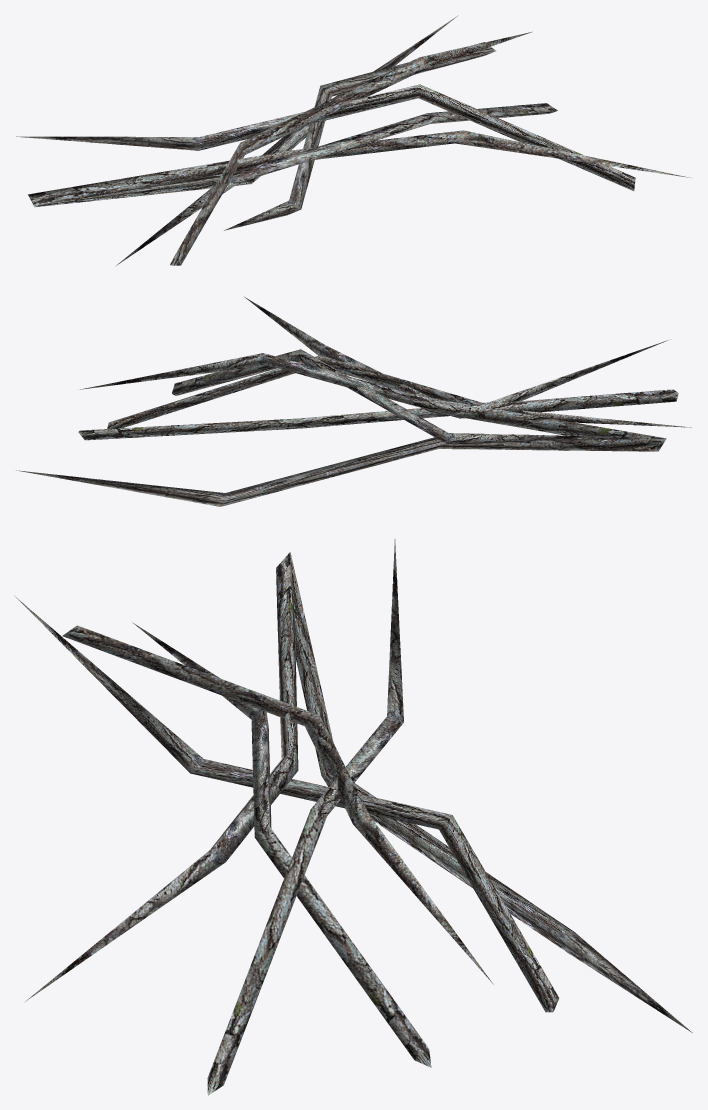
File: BranchesItem_01_v01.obj
The picture shows the model from 3 angles, top to bottom: view 1: azimuth 30°, elevation 25°; view 2: azimuth 150°, elevation 25°; view 3: azimuth 270°, elevation 25°; orthographic projection. The views are drawn at different scales.
Visible parts, largest first — view 1: polySurface13; view 2: polySurface13; view 3: polySurface13.
Boxes of the visible parts, box(x1,y1,x2,y2) form: polySurface13: box(16, 15, 692, 266); polySurface13: box(16, 297, 691, 506); polySurface13: box(14, 539, 692, 1095).
Size of the model in its own units: 21.57 by 4.95 by 15.93.
Materials: 1 (1 with a texture image).
